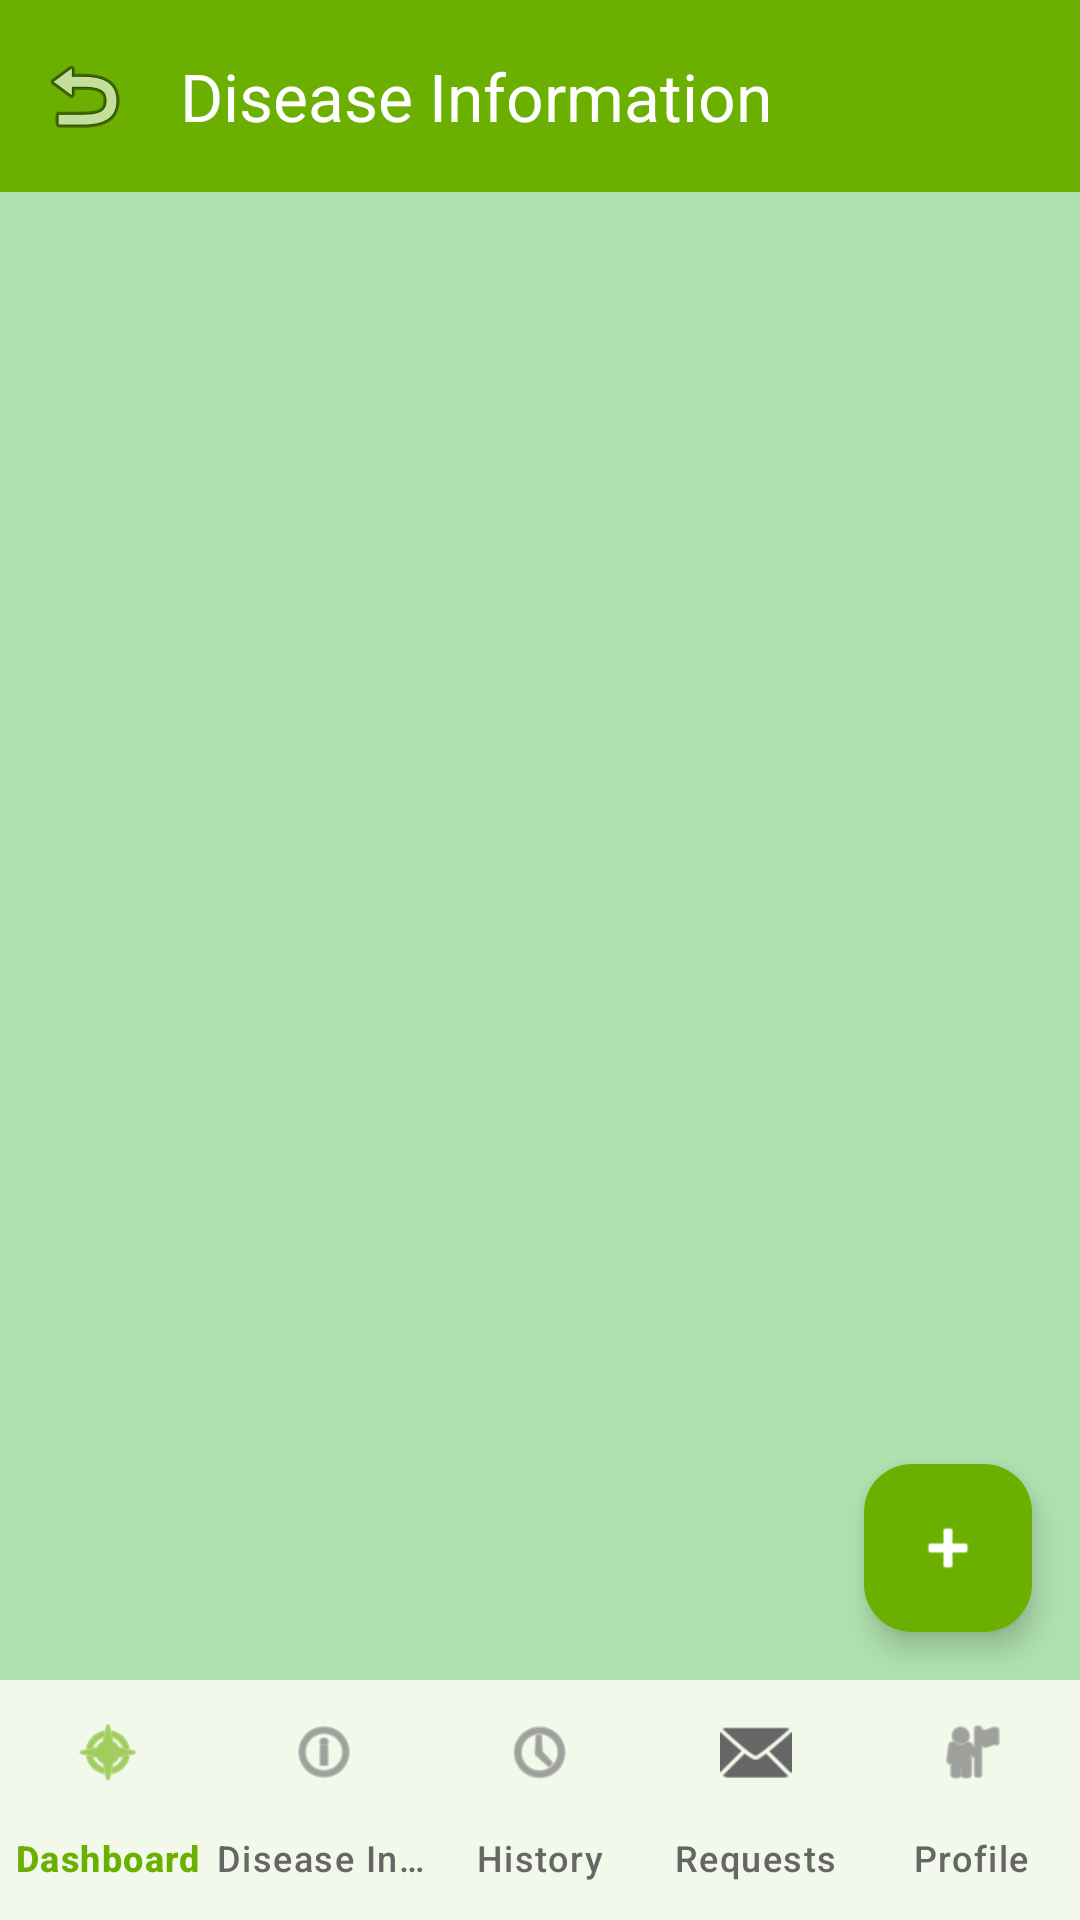

Named icons in this screenshot (1080px×1920px) and their bounding boxes, (x1, y1, x2, y2):
Add Disease Info: (864, 1464, 1032, 1632)
